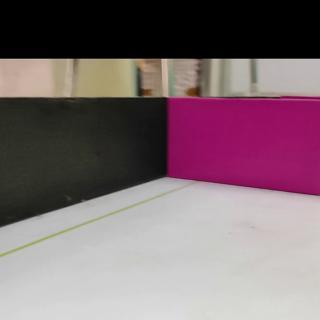xparking: (169, 98, 317, 189)
